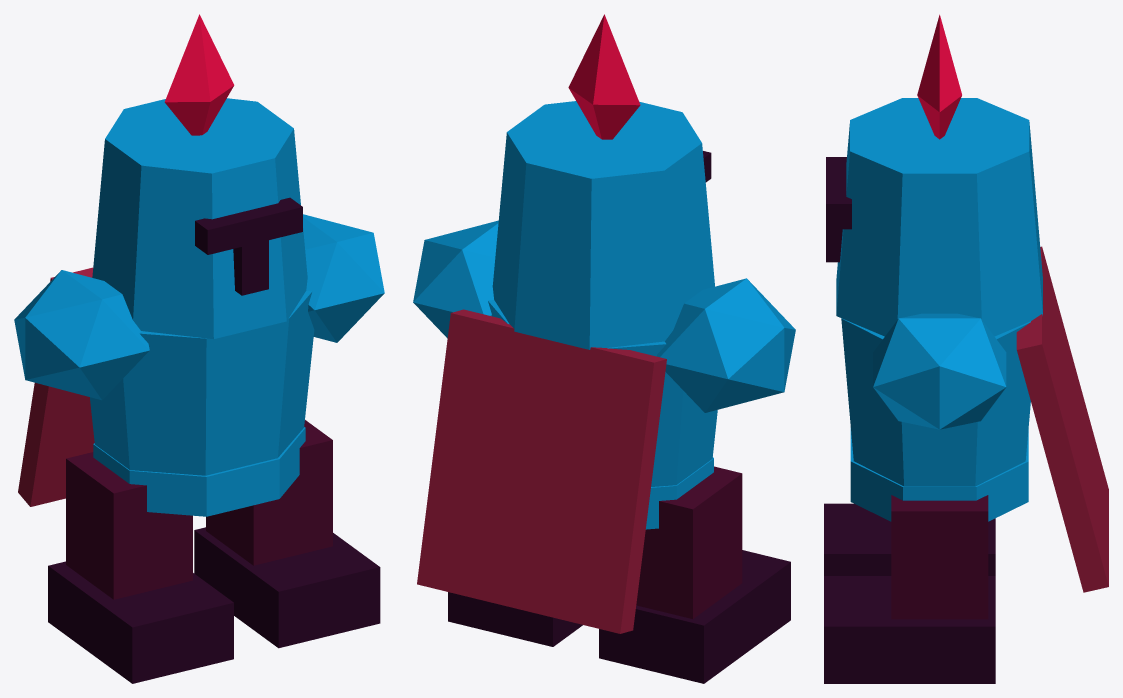
Rendered from hero_body.glb.
3 renders of one model, left to right at view 1: azimuth 30°, elevation 25°; view 2: azimuth 150°, elevation 25°; view 3: azimuth 270°, elevation 25°, orthographic. The views are drawn at different scales.
Parts seen in each view (by area): view 1: HeroBody; view 2: HeroBody; view 3: HeroBody.
Boxes of the visible parts, bbox=[...] form: HeroBody: bbox=[14, 14, 384, 683]; HeroBody: bbox=[413, 14, 795, 683]; HeroBody: bbox=[824, 14, 1108, 683].
Size of the model in its own units: 1.1 by 1.8 by 0.7635.
